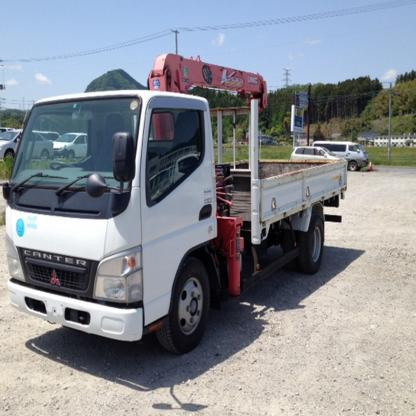truck: (1, 53, 347, 351)
